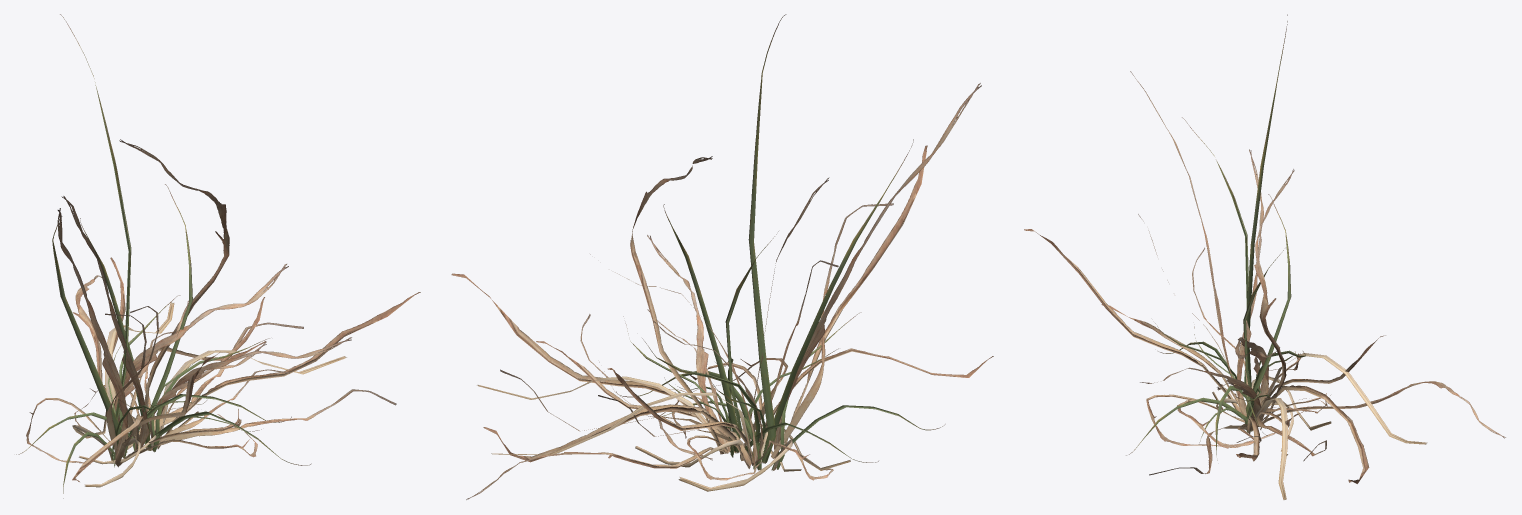
Rendered from grass_medium_02_part_1.fbx.
The picture shows the model from 3 angles, left to right: view 1: azimuth 30°, elevation 25°; view 2: azimuth 150°, elevation 25°; view 3: azimuth 270°, elevation 25°; orthographic projection. The views are drawn at different scales.
Parts seen in each view (by area): view 1: grass_medium_02_b.001; view 2: grass_medium_02_b.001; view 3: grass_medium_02_b.001.
Boxes of the visible parts, left/top/right/bottom form: grass_medium_02_b.001: left=16, top=14, right=420, bottom=498; grass_medium_02_b.001: left=451, top=14, right=993, bottom=499; grass_medium_02_b.001: left=1024, top=14, right=1505, bottom=499.
Size of the model in its own units: 17.91 by 17.96 by 19.93.
